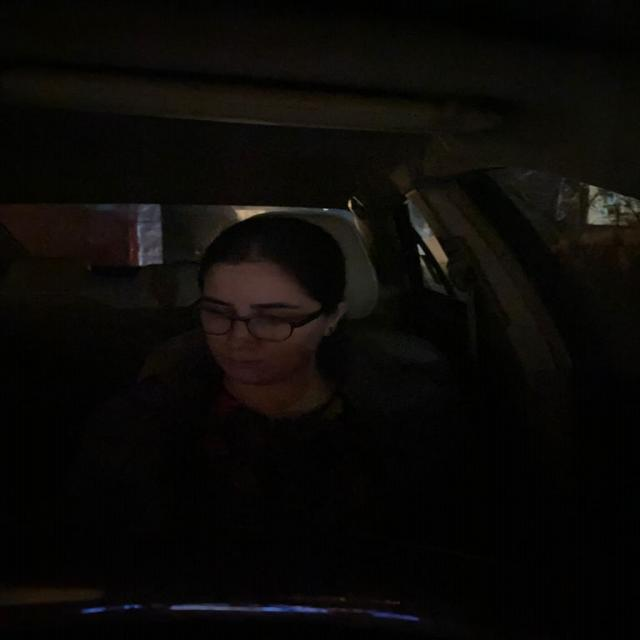drowsy: (183, 208, 364, 404)
